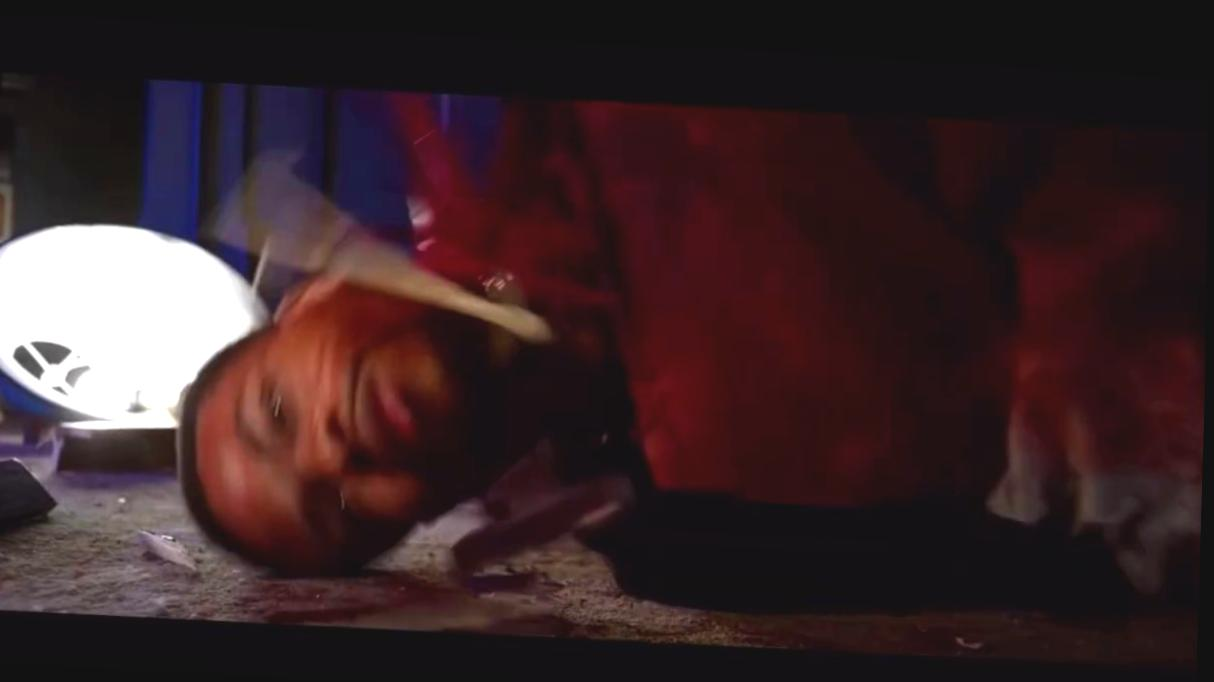Fire: (974, 173, 1207, 475), (390, 89, 600, 297)
